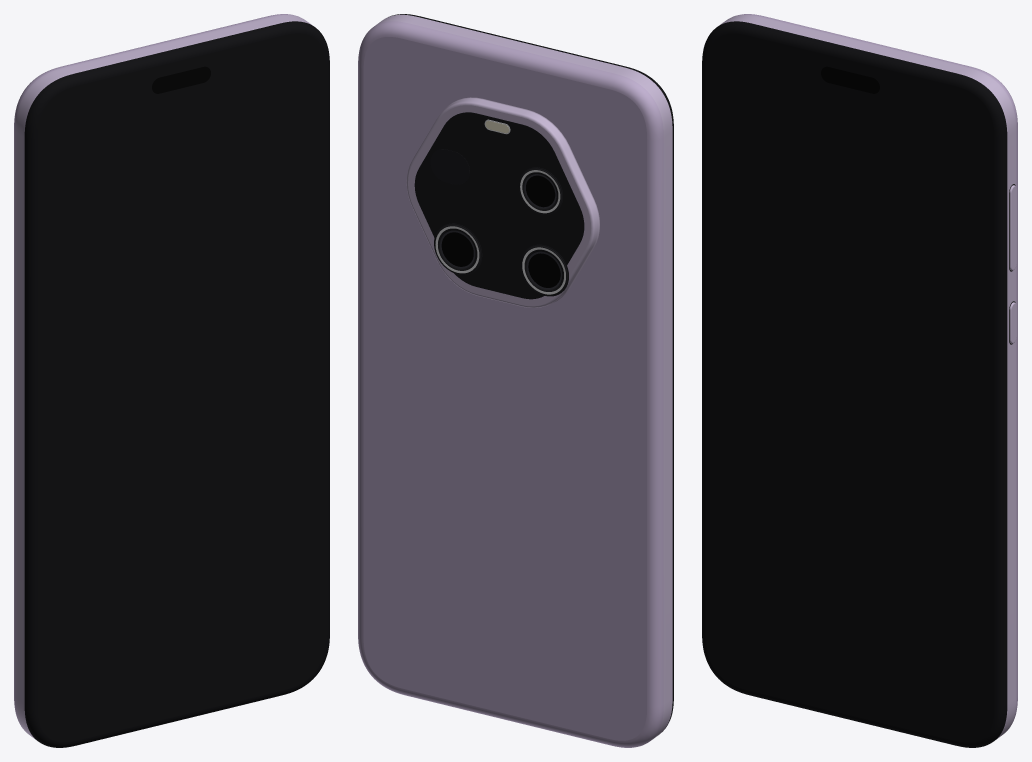
Rendered from honor-magic7-rsr.glb.
3 renders of one model, left to right at view 1: azimuth 30°, elevation 25°; view 2: azimuth 150°, elevation 25°; view 3: azimuth 330°, elevation 25°, orthographic.
Parts seen in each view (by area): view 1: body, punch; view 2: body, camera; view 3: body, buttons, punch.
Boxes of the visible parts, <box> form: body: <box>14,14,329,747</box>; punch: <box>152,66,210,93</box>; body: <box>358,14,673,747</box>; camera: <box>406,97,599,307</box>; body: <box>702,14,1017,747</box>; buttons: <box>1009,184,1016,344</box>; punch: <box>821,66,879,93</box>.
Size of the model in its own units: 77.53 by 163 by 11.62.
